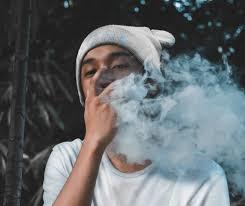smoker: (50, 14, 245, 206)
